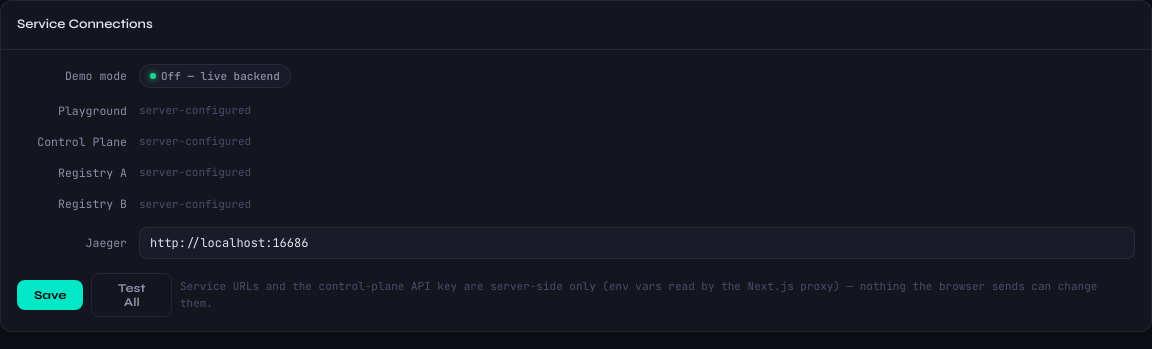
ConnectionPanel — Test All renders the failure kind, not just a dot › says healthy once a probe resolves ok
Click the button "Test All". click: (132,294)
box: 91,272 -> 172,316
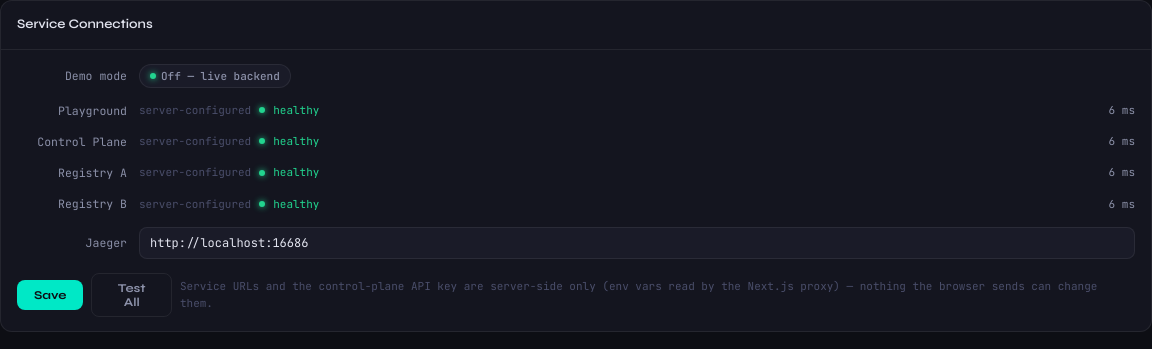
Expected: the text "healthy" is shown 4 times, 273,102 -> 319,118; 273,133 -> 319,150; 273,164 -> 319,181; 273,196 -> 319,212
